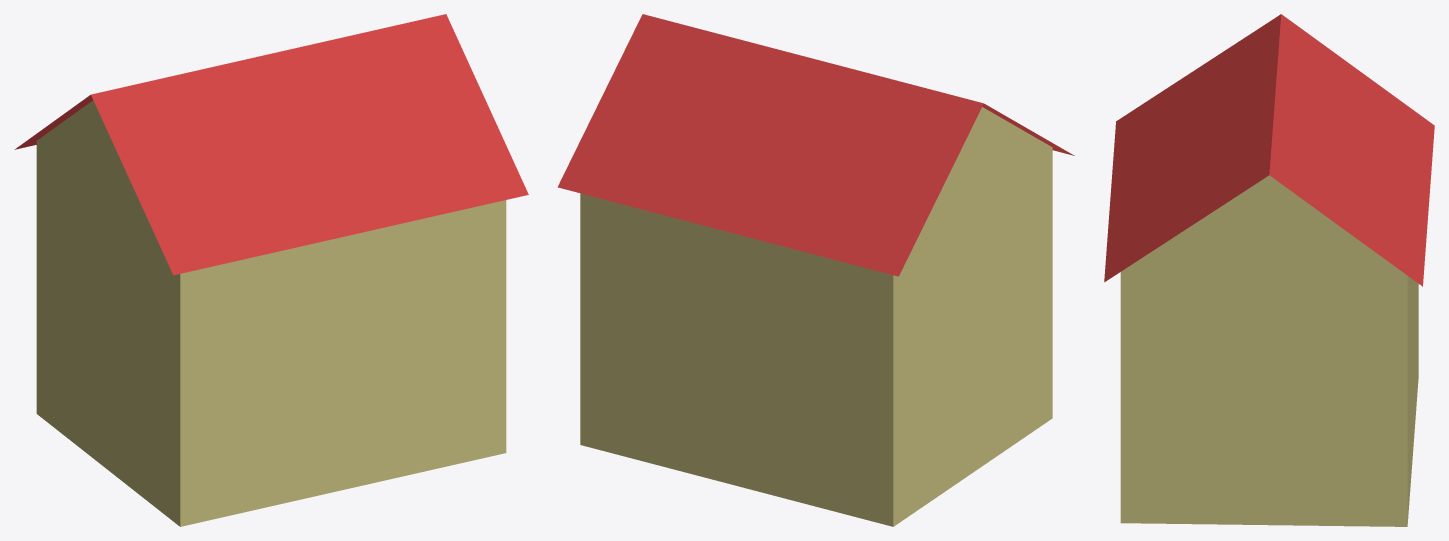
The picture shows the model from 3 angles, left to right: view 1: azimuth 30°, elevation 25°; view 2: azimuth 150°, elevation 25°; view 3: azimuth 270°, elevation 25°; orthographic projection. The views are drawn at different scales.
Bounding box in the file's own units: 12.36 × 10.44 × 12.42.
